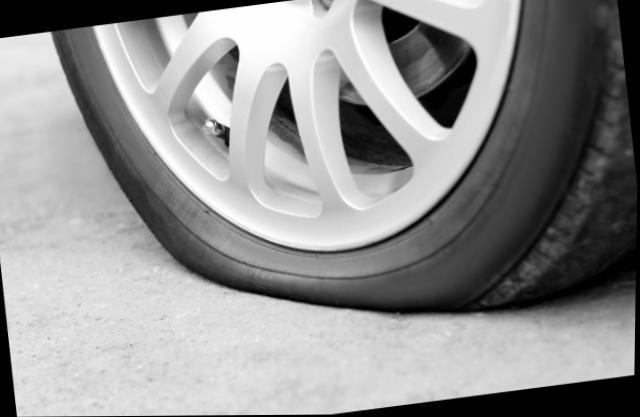tire flat: (50, 0, 638, 315)
